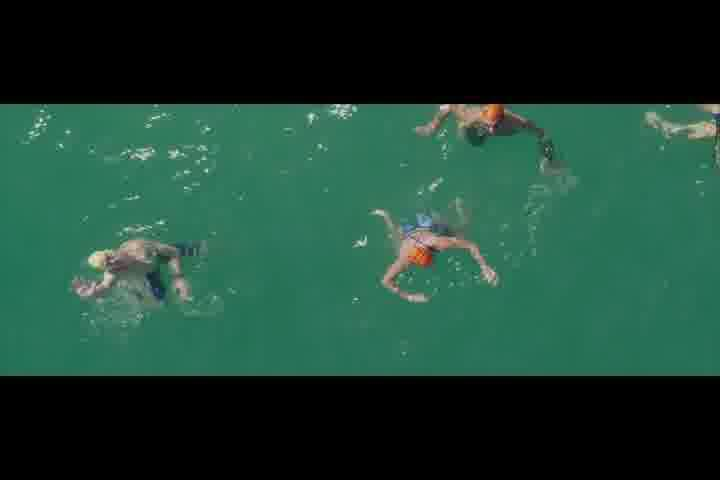human: (357, 208, 508, 308), (71, 237, 206, 324), (412, 105, 561, 168)
